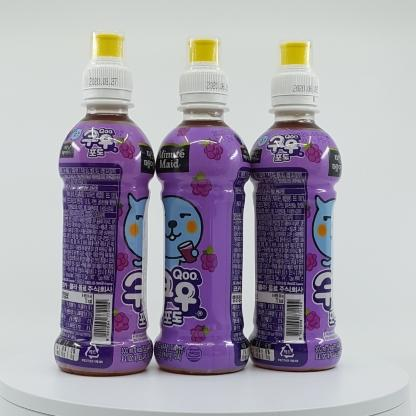------300ML: (53, 30, 155, 376), (153, 35, 251, 375), (247, 38, 342, 372)
